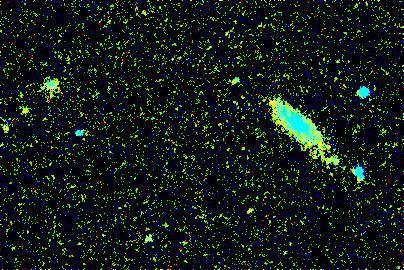star: (230, 194, 260, 224)
